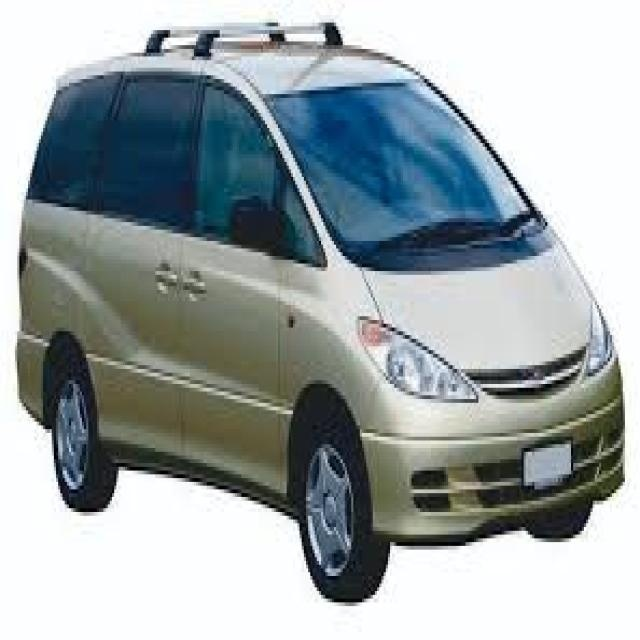Van: (11, 22, 623, 602)
